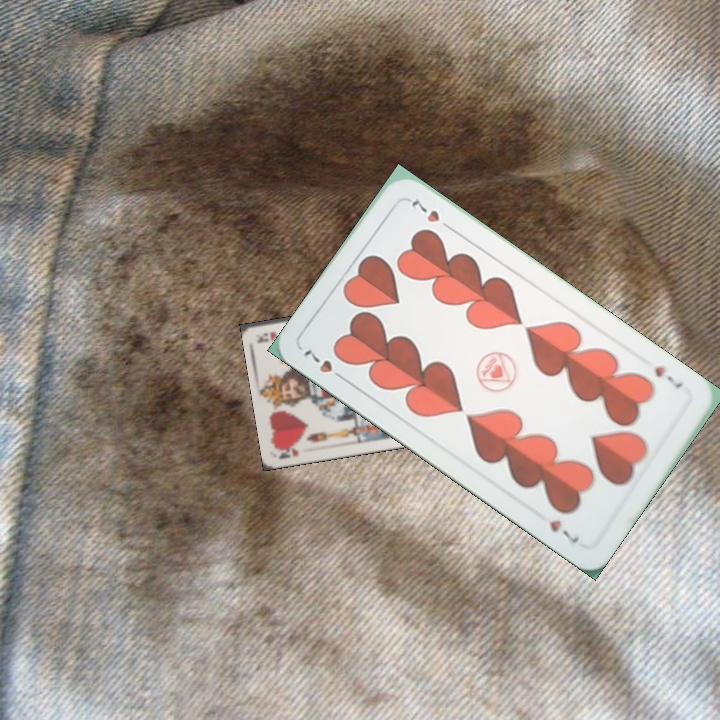H7: (298, 345, 349, 384), (650, 361, 686, 392)
HK: (275, 441, 301, 461)
